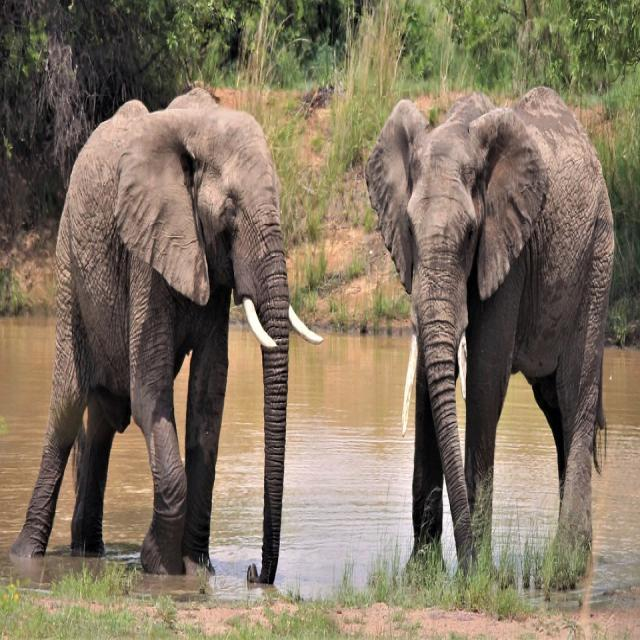Elephant: (9, 84, 323, 586), (364, 84, 615, 588)
